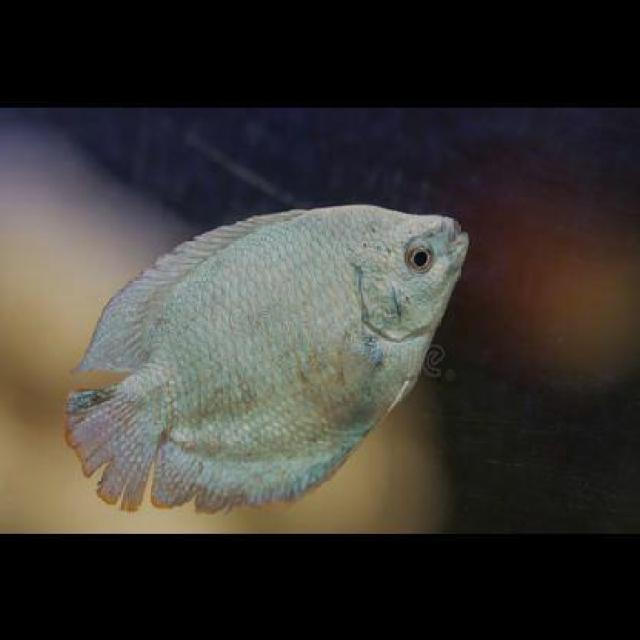Gourami: (64, 199, 470, 512)
